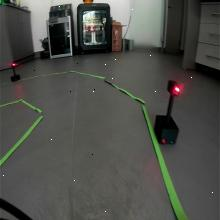red: (167, 78, 181, 98)
